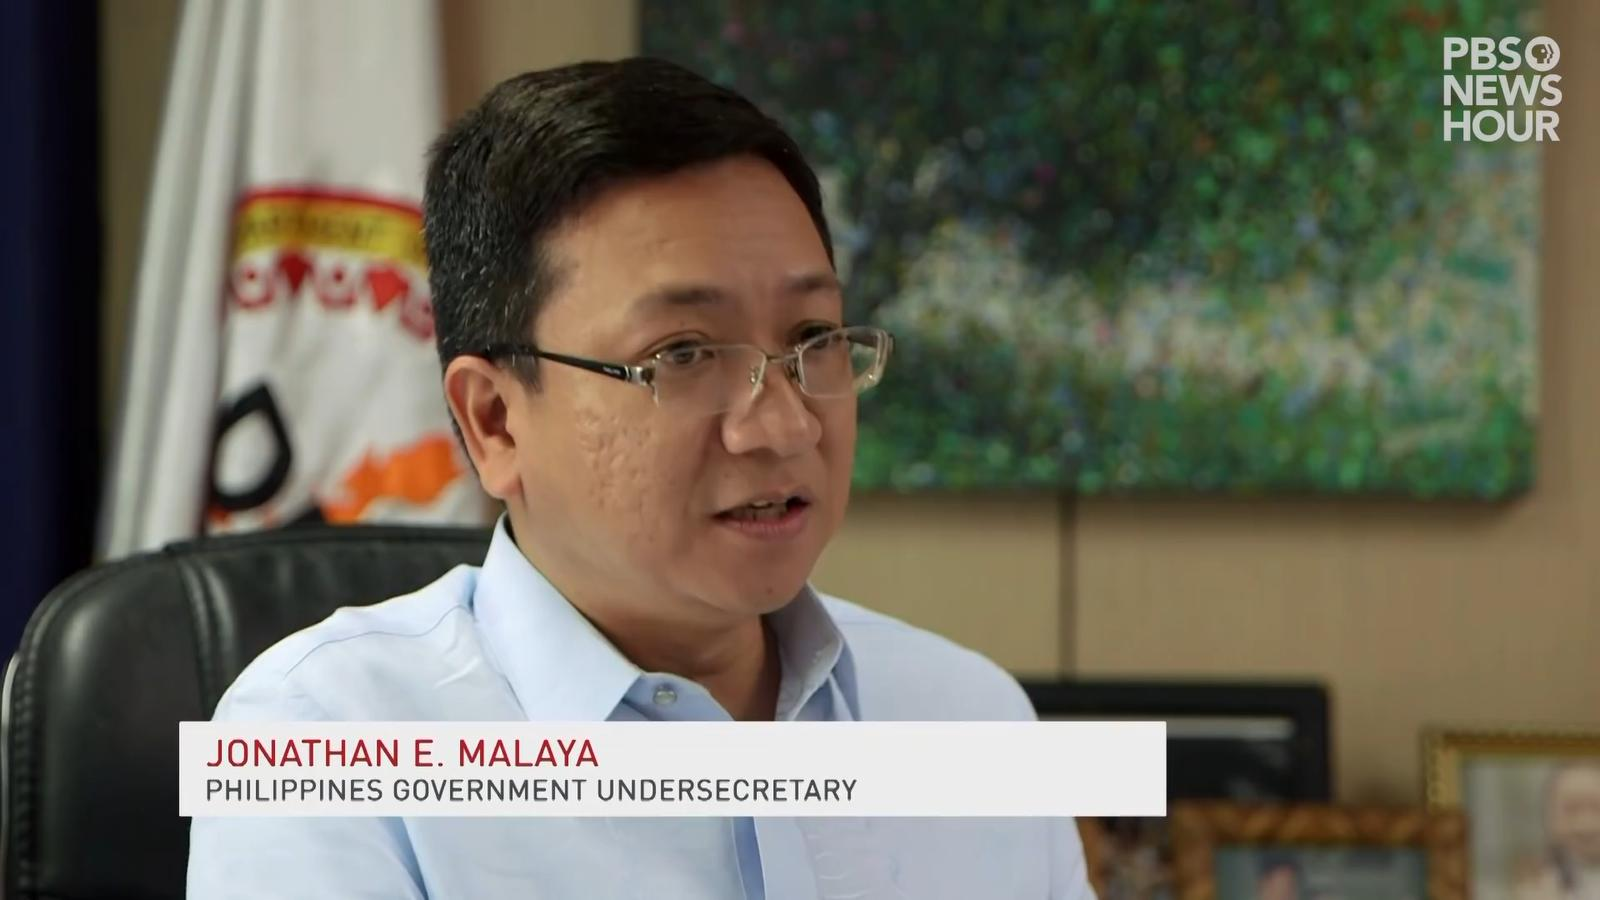without_mask: (592, 266, 831, 570)
